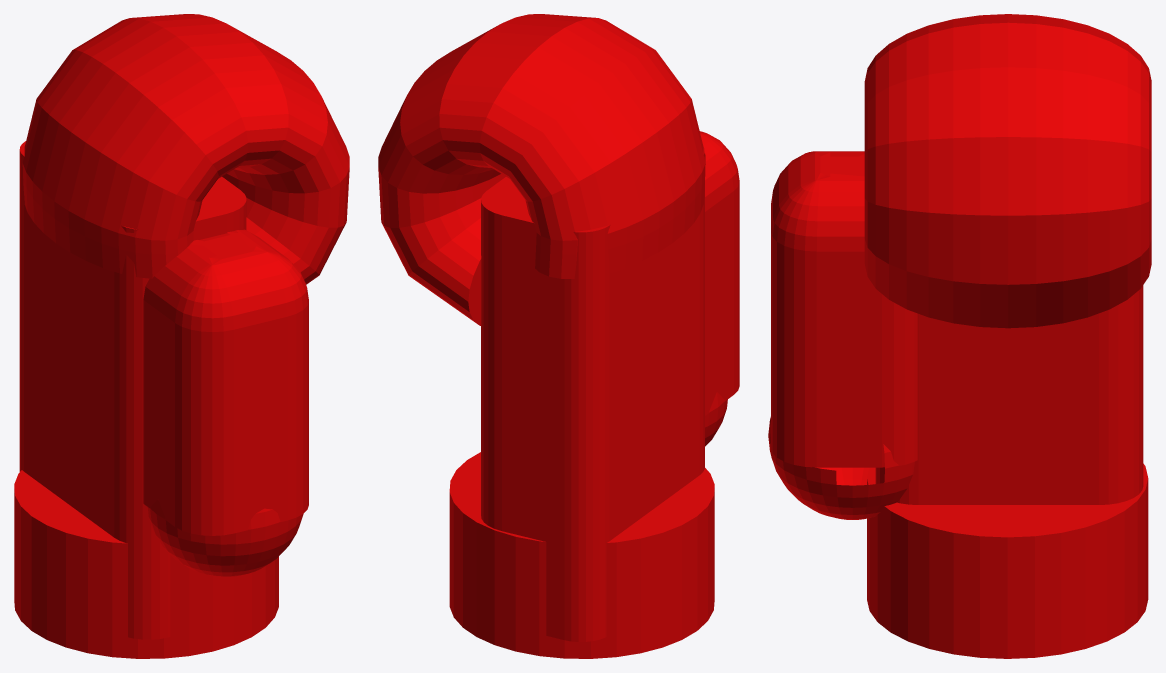
The model's file is boxingglub.fbx.
3 views of the same model, side by side, from view 1: azimuth 30°, elevation 25°; view 2: azimuth 150°, elevation 25°; view 3: azimuth 270°, elevation 25° (orthographic). The views are drawn at different scales.
Parts seen in each view (by area): view 1: Cylinder.001; view 2: Cylinder.001; view 3: Cylinder.001.
Boxes of the visible parts, bbox=[...] form: Cylinder.001: bbox=[14, 14, 349, 658]; Cylinder.001: bbox=[378, 14, 739, 658]; Cylinder.001: bbox=[768, 14, 1151, 658].
Bounding box in the file's own units: 562 × 1048 × 615.
